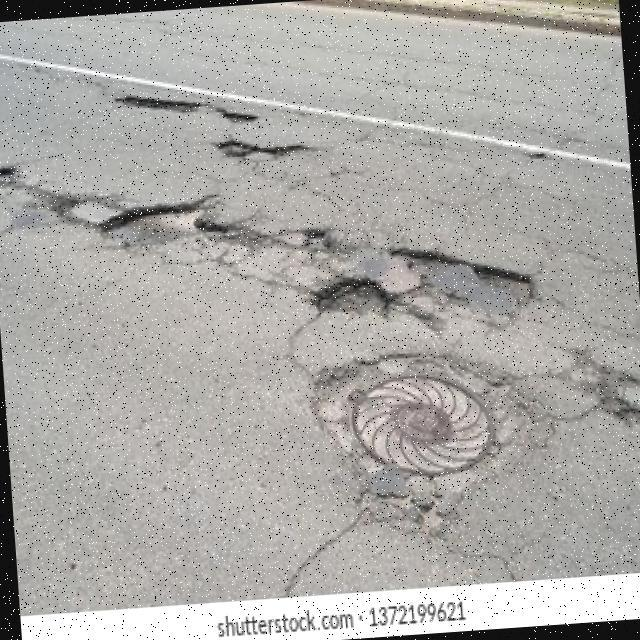Pothole: (389, 250, 532, 319), (94, 195, 241, 249), (113, 98, 256, 122), (310, 278, 390, 316), (214, 140, 305, 158), (0, 165, 18, 180)
